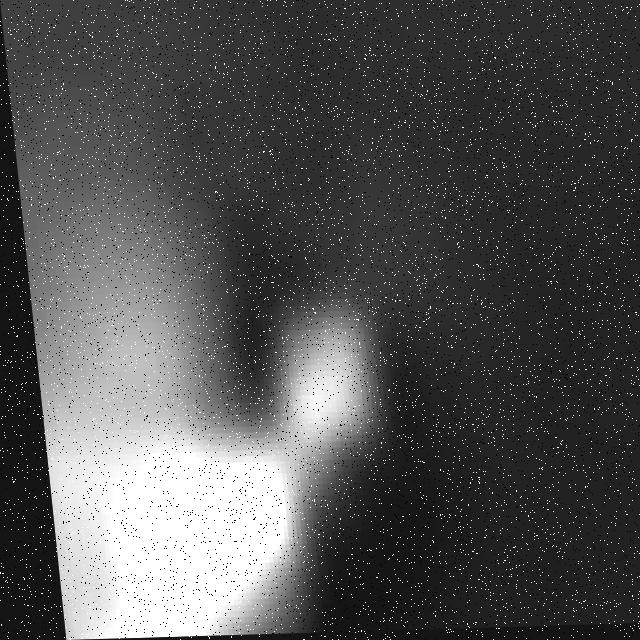person: (8, 76, 382, 640)
